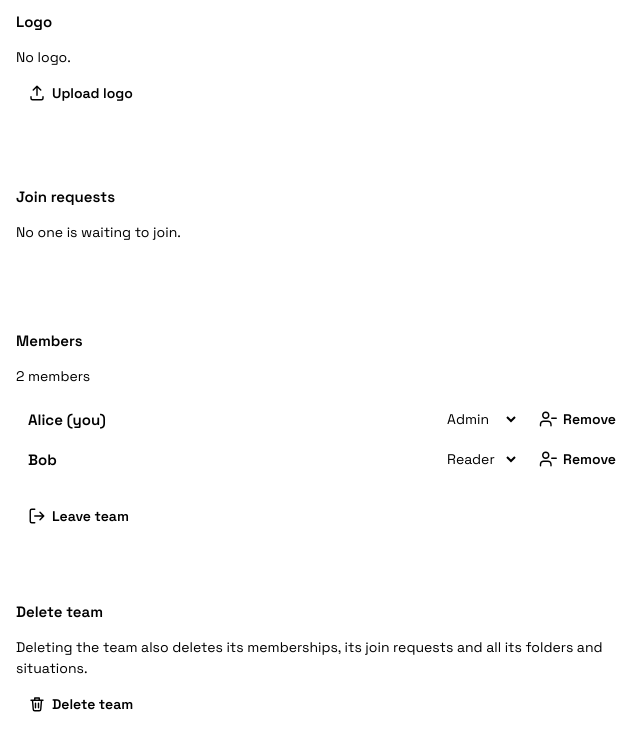
Test: team page › lets an Admin change a member's role
(page scrolled)
Select "Editor" in the dropdown named "Role of Bob" in the row of "Bob": (477, 459) [435,449,519,469]
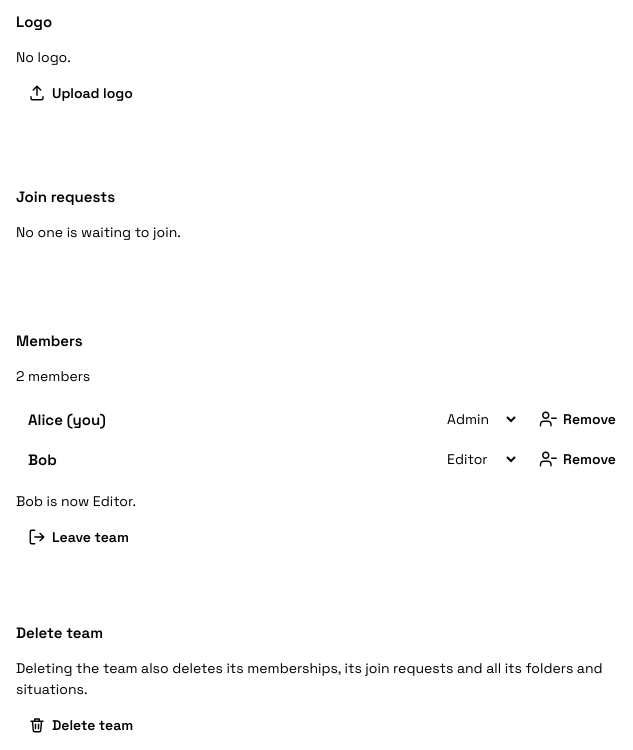
expect the message reads "Bob is now Editor.": met, box [16,492,136,510]
